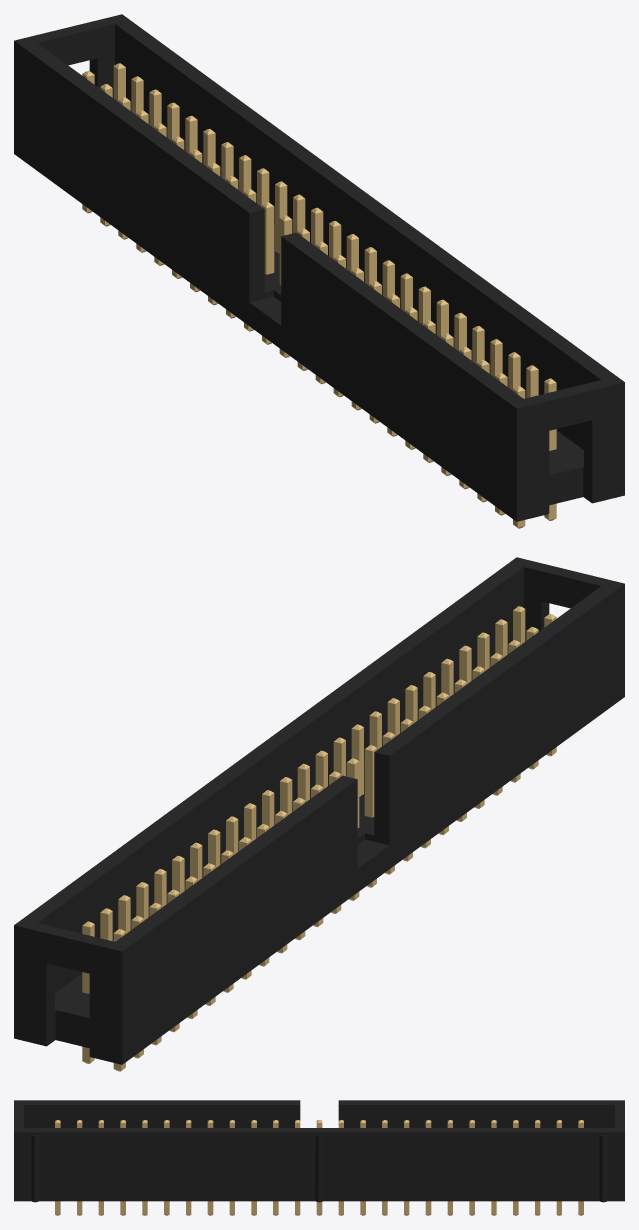
File: kc-idc-header_2x25_p2.54mm_vertical.glb
3 views of the same model, one above another, from view 1: azimuth 30°, elevation 25°; view 2: azimuth 150°, elevation 25°; view 3: azimuth 270°, elevation 25° (orthographic). The views are drawn at different scales.
Parts seen in each view (by area): view 1: 0_0_0_0, 0.75_0.5_0.25_0.9; view 2: 0_0_0_0, 0.75_0.5_0.25_0.9; view 3: 0_0_0_0, 0.75_0.5_0.25_0.9.
Part boxes in pixels (x1,y1,x2,y2): 0_0_0_0: (14,14,624,521); 0.75_0.5_0.25_0.9: (82,63,556,528); 0_0_0_0: (14,557,624,1064); 0.75_0.5_0.25_0.9: (82,606,556,1071); 0_0_0_0: (14,1100,624,1202); 0.75_0.5_0.25_0.9: (55,1120,583,1215).
Bounding box in the file's own units: 0.9095 × 1.21 × 7.12.
